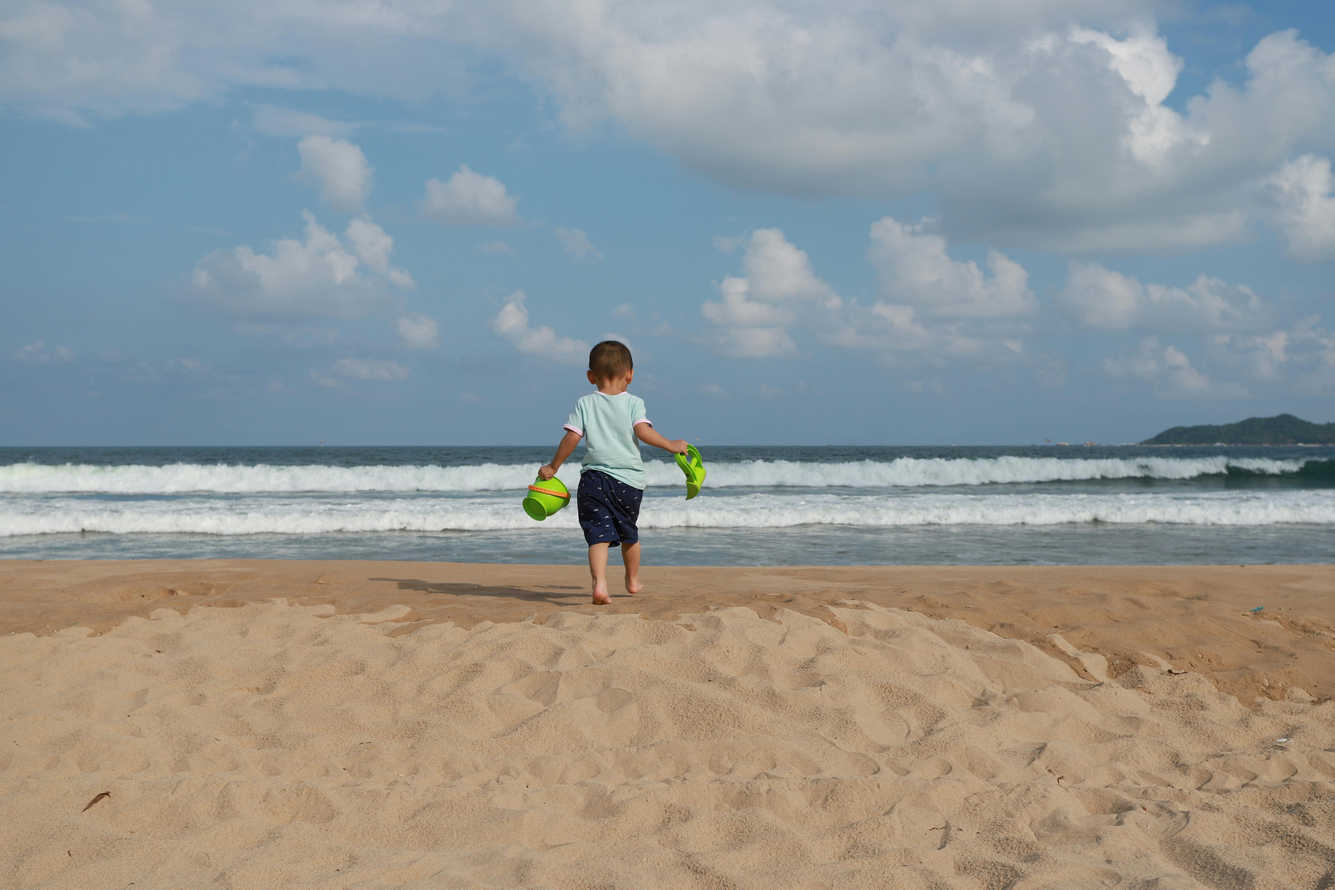Human: (544, 319, 684, 617)
